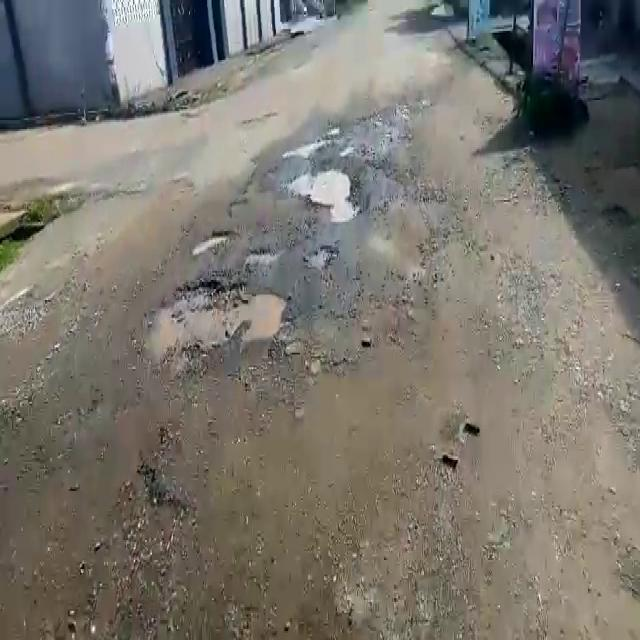pothole: (139, 276, 293, 359), (284, 163, 356, 222), (194, 230, 234, 259), (299, 244, 338, 272), (243, 248, 278, 264)
